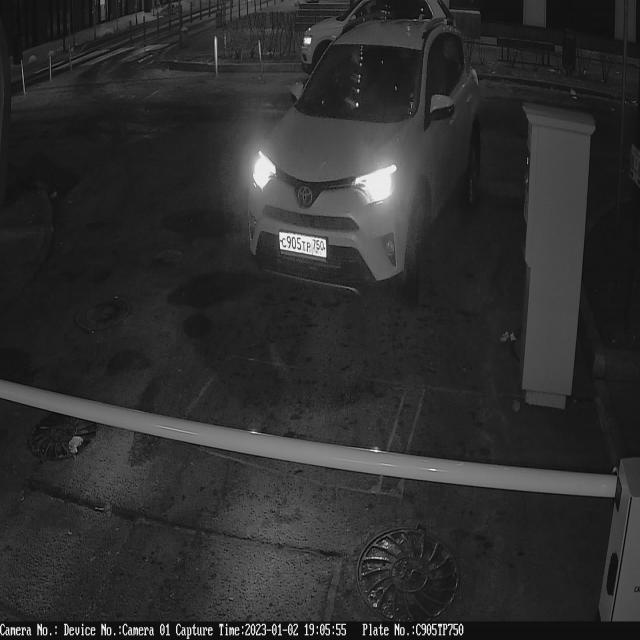car-plate-numbers: (276, 227, 332, 268)
